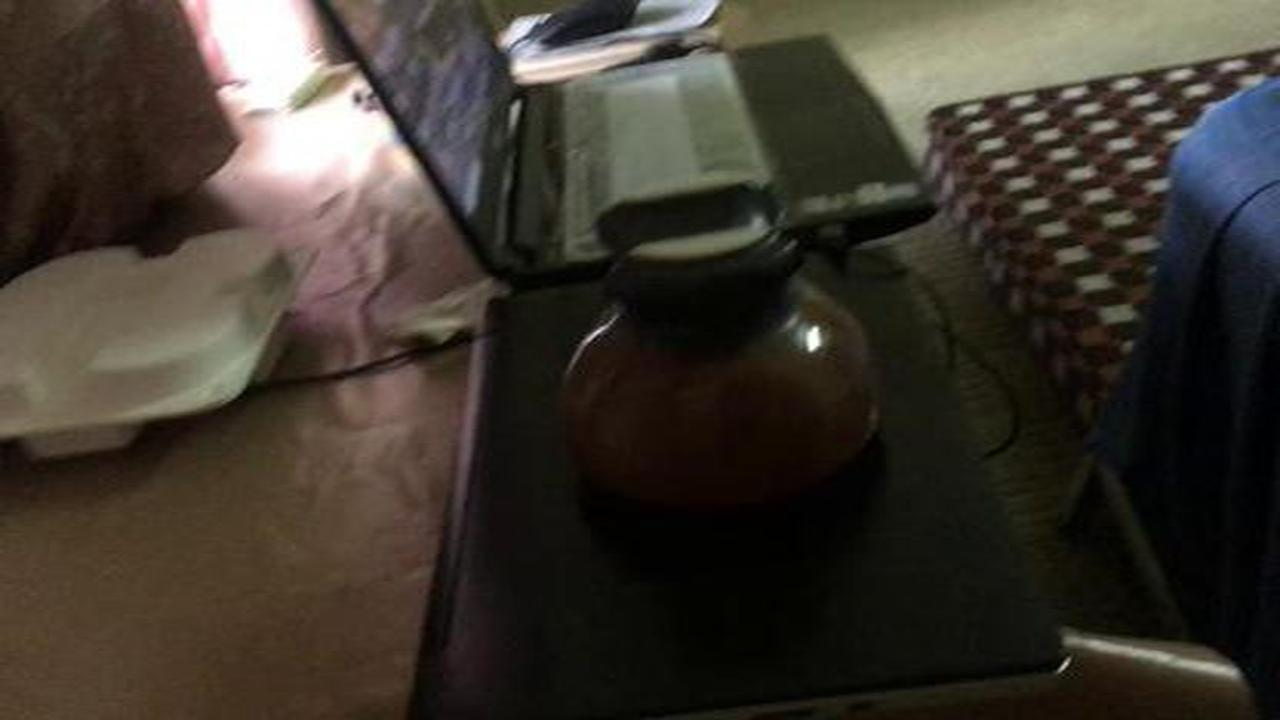insulator_pin: (530, 168, 911, 528)
